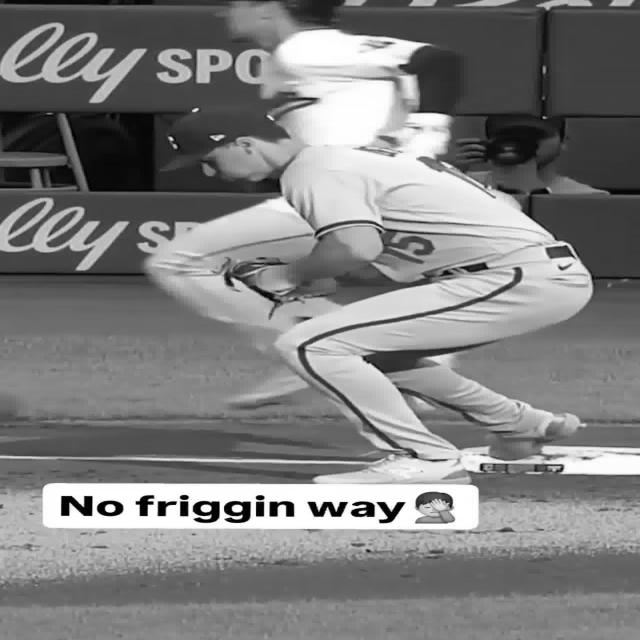base: (460, 446, 640, 475)
baseball_glove: (244, 260, 338, 302), (220, 258, 287, 286), (247, 285, 282, 302)
shoe: (313, 454, 471, 484), (489, 412, 580, 460), (224, 365, 309, 409)
